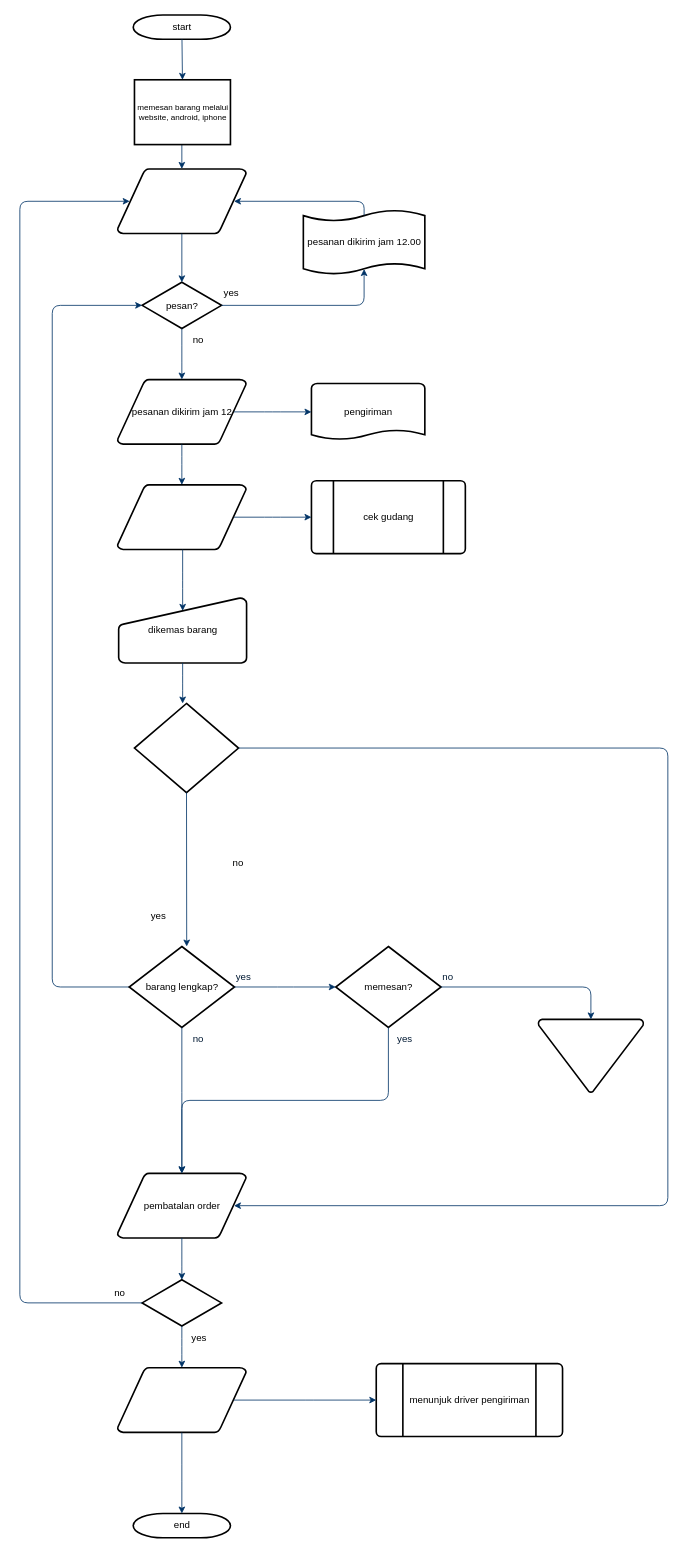
This 689x1552 diagram has some shape labels left out. The shapes that lost their labels are listed below. From the top down, each one's box as (x1, y1, x2, y2) in pixels, then its label:
(116, 168, 247, 234): cek barang
(116, 484, 247, 550): order material
(133, 702, 239, 793): barang tidak lengkap?
(537, 1018, 644, 1093): pembayaran
(141, 1279, 222, 1326): pengiriman oke?
(116, 1366, 247, 1433): driver mengirim barang
